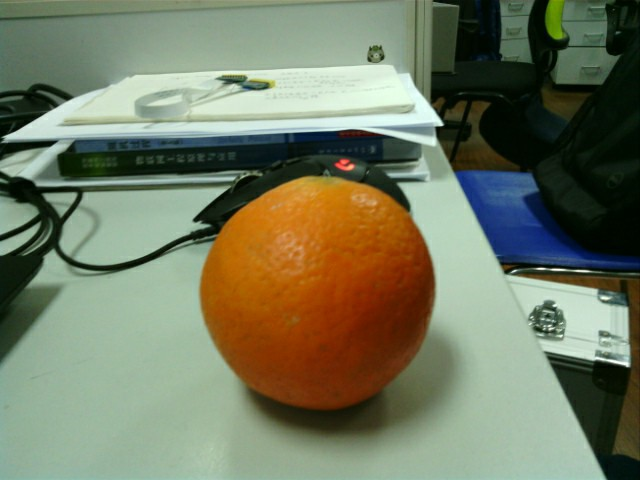normal_orange: (202, 177, 438, 408)
